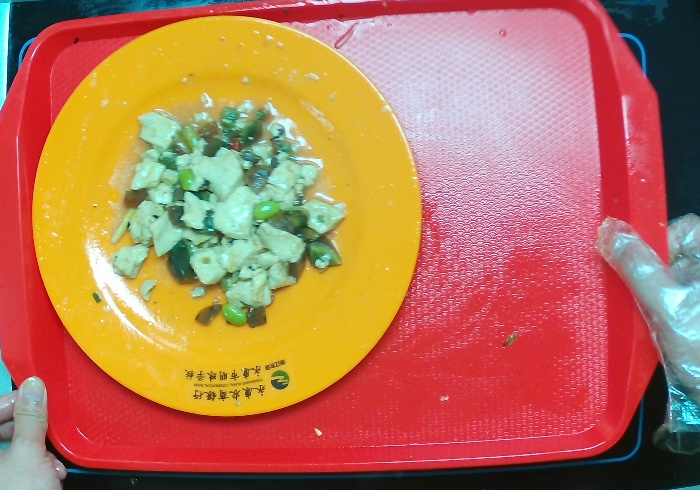YKMZ-Ju_Se_Mian_Pan: (20, 8, 443, 426)
